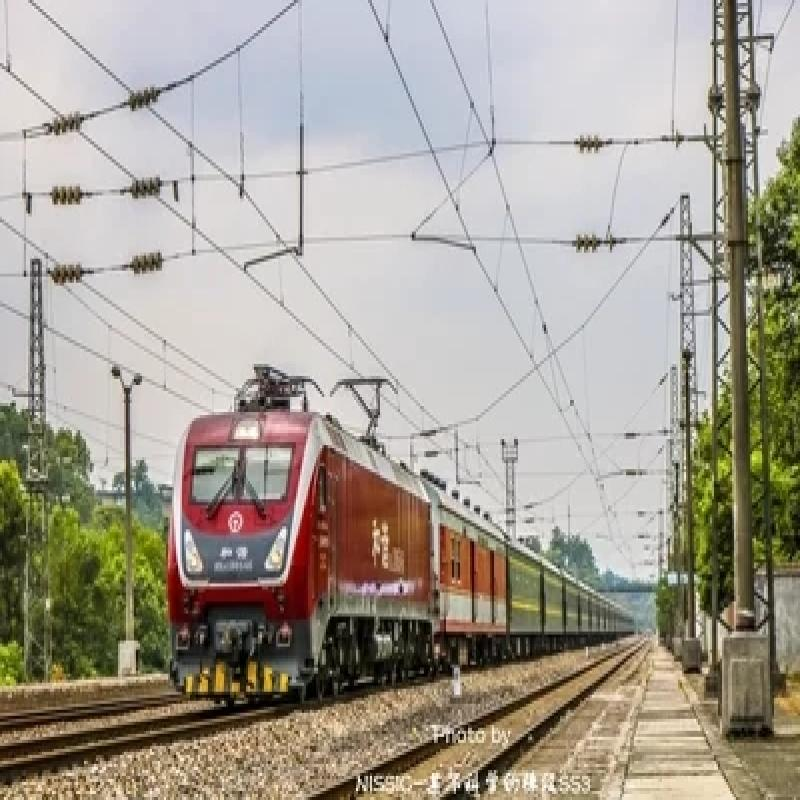train: (155, 359, 439, 711)
